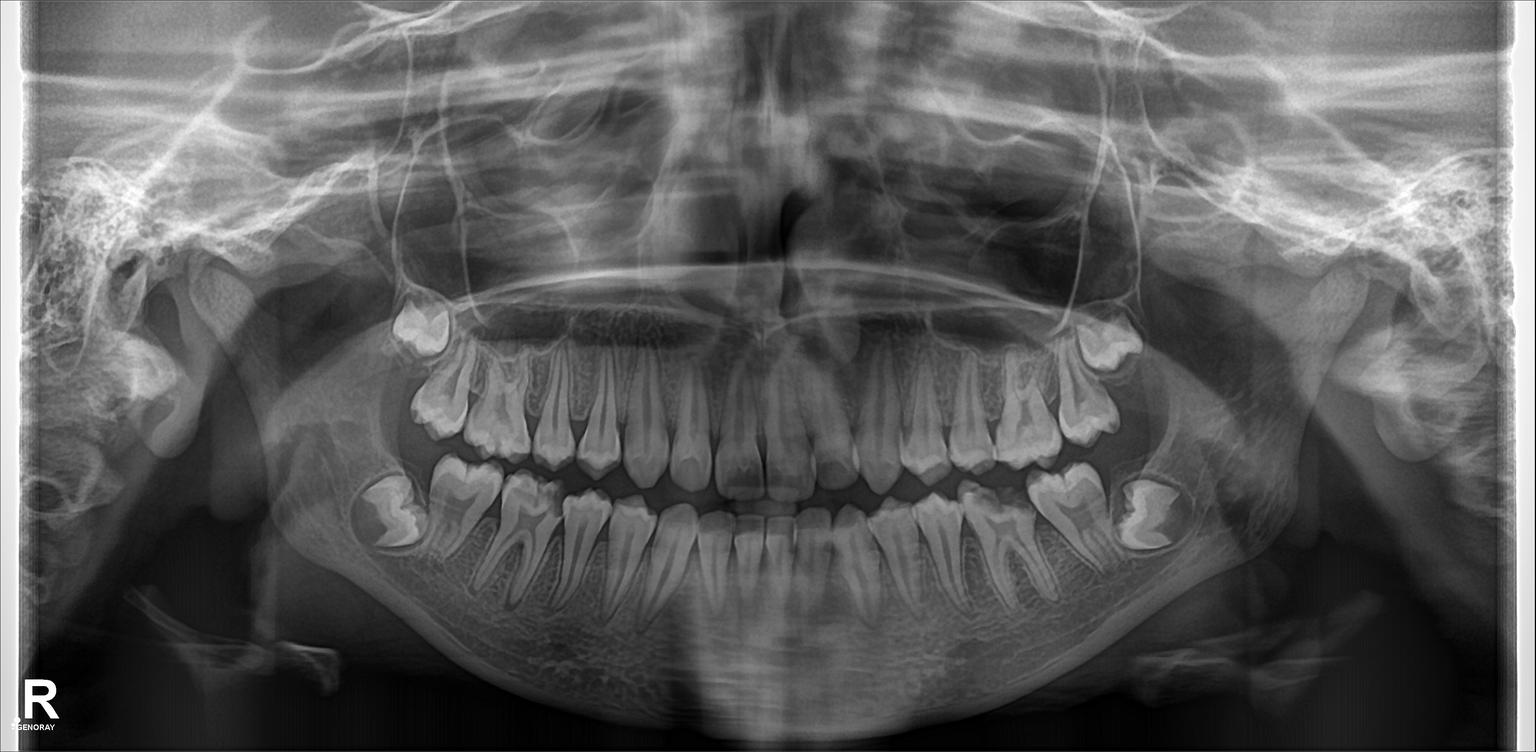Impacted Third Molar: (1108, 477, 1187, 557), (350, 480, 429, 548), (1071, 316, 1144, 372), (391, 294, 460, 353)
